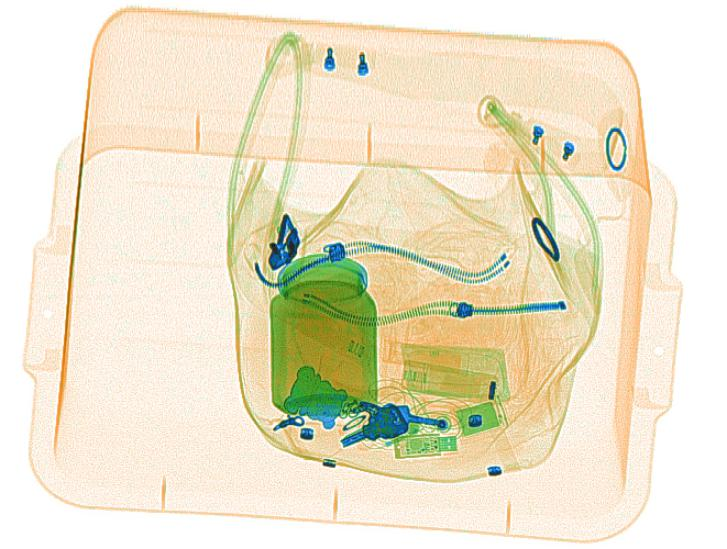USBFlashDisk: (385, 426, 463, 461)
